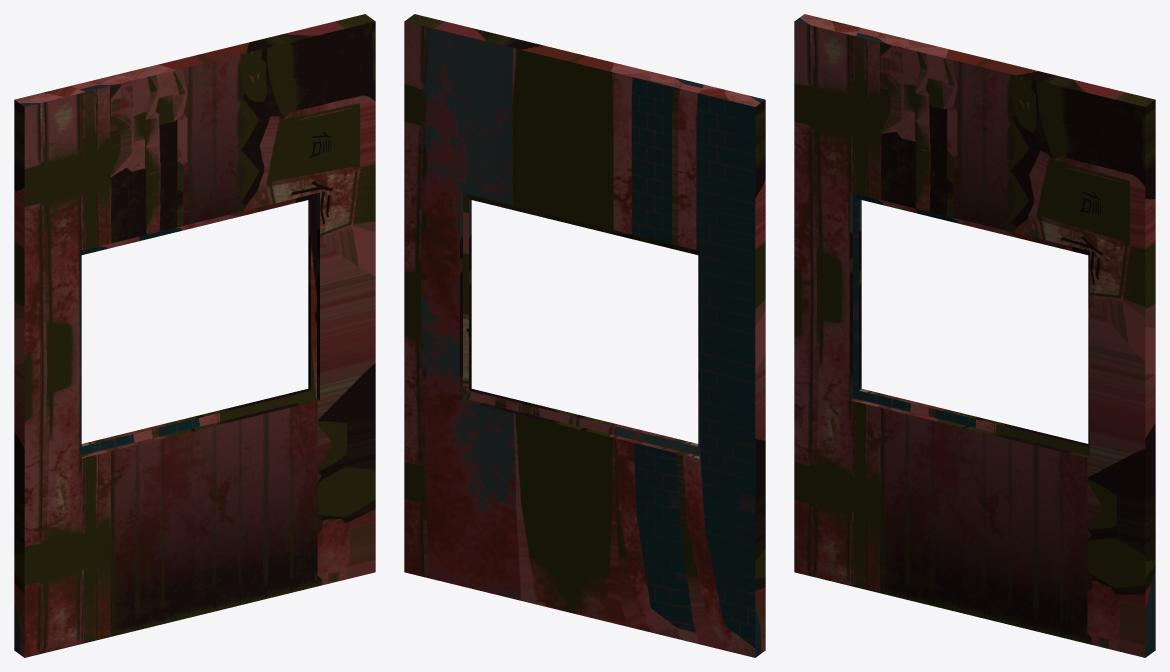
The model's file is PAREDE 2M.fbx.
3 views of the same model, side by side, from view 1: azimuth 30°, elevation 25°; view 2: azimuth 150°, elevation 25°; view 3: azimuth 330°, elevation 25° (orthographic).
Visible parts, largest first — view 1: Cube.028; view 2: Cube.028; view 3: Cube.028.
Part boxes in pixels (x1=…): Cube.028: x1=14, y1=14, x2=375, y2=657; Cube.028: x1=404, y1=14, x2=765, y2=657; Cube.028: x1=794, y1=14, x2=1155, y2=657.
Size of the model in its own units: 200 by 300 by 10.
